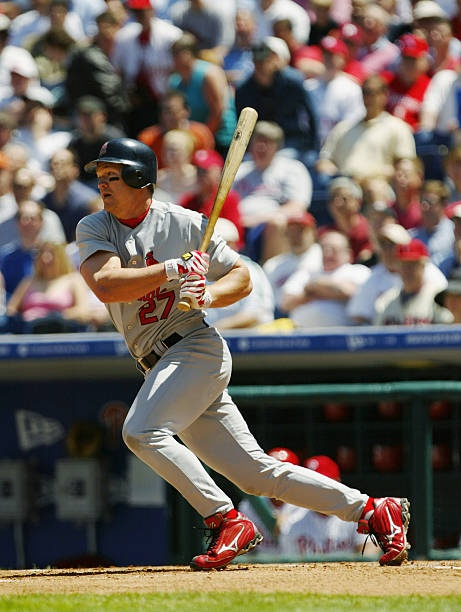bita: (178, 106, 258, 292)
